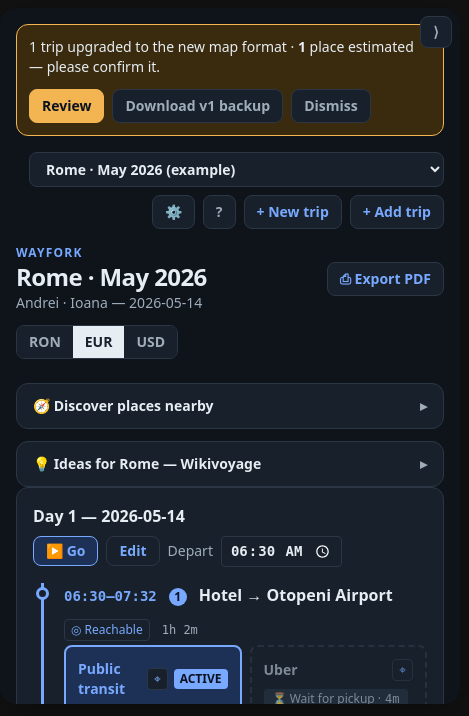
Scenario: WayforkApp v1 → v2 upgrade on load › writes a v1 local trip back as v2 and offers to review its estimated places
Expected: the text "place estimated" is shown, [29,37,431,77]
Click the button "Dismiss".
click(331, 106)  # box [291,89,371,123]
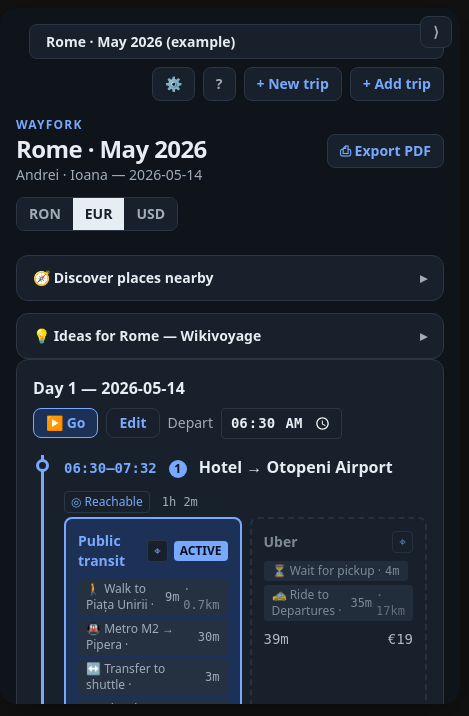
Now the text "upgraded to the new map format" is gone
